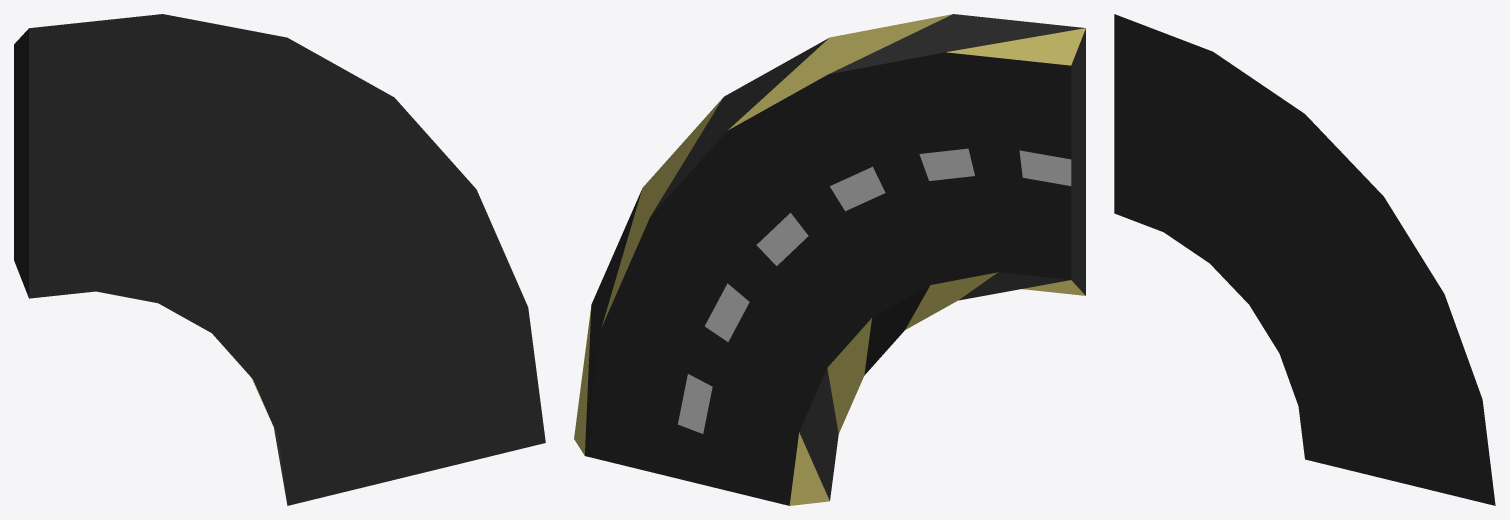
Rendered from forklift_path_right_small.fbx.
3 renders of one model, left to right at view 1: azimuth 30°, elevation 25°; view 2: azimuth 150°, elevation 25°; view 3: azimuth 330°, elevation 25°, orthographic. The views are drawn at different scales.
Visible parts, largest first — view 1: right_small; view 2: right_small; view 3: right_small.
Part boxes in pixels (left/top/right/bottom): right_small: left=14, top=14, right=545, bottom=505; right_small: left=574, top=14, right=1085, bottom=505; right_small: left=1114, top=14, right=1495, bottom=505.
Bounding box in the file's own units: 200 × 200 × 10.
